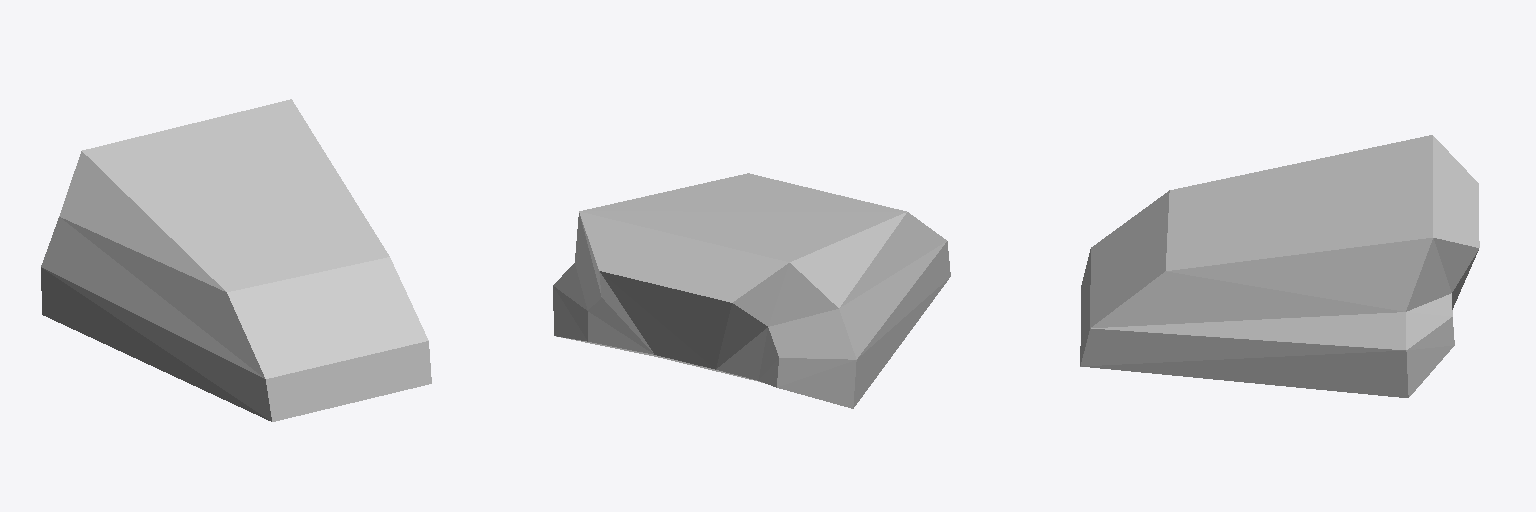
The model's file is rtoes.obj.
The picture shows the model from 3 angles: view 1: azimuth 30°, elevation 25°; view 2: azimuth 150°, elevation 25°; view 3: azimuth 270°, elevation 25°; orthographic projection.
Visible parts, largest first — view 1: 2; view 2: 2; view 3: 2.
Part boxes in pixels (bbox=[...]): 2: bbox=[41, 99, 431, 421]; 2: bbox=[553, 173, 950, 408]; 2: bbox=[1080, 135, 1479, 397].
Size of the model in its own units: 0.0679 by 0.0313 by 0.0773.